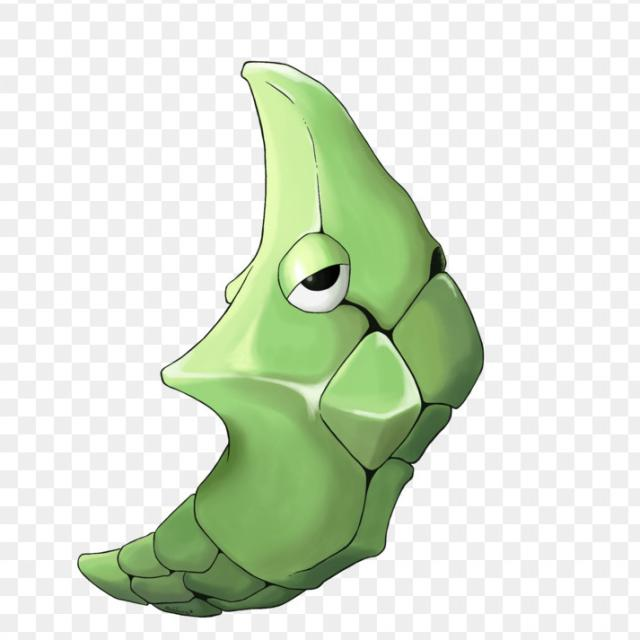Metapod: (66, 47, 491, 620)
